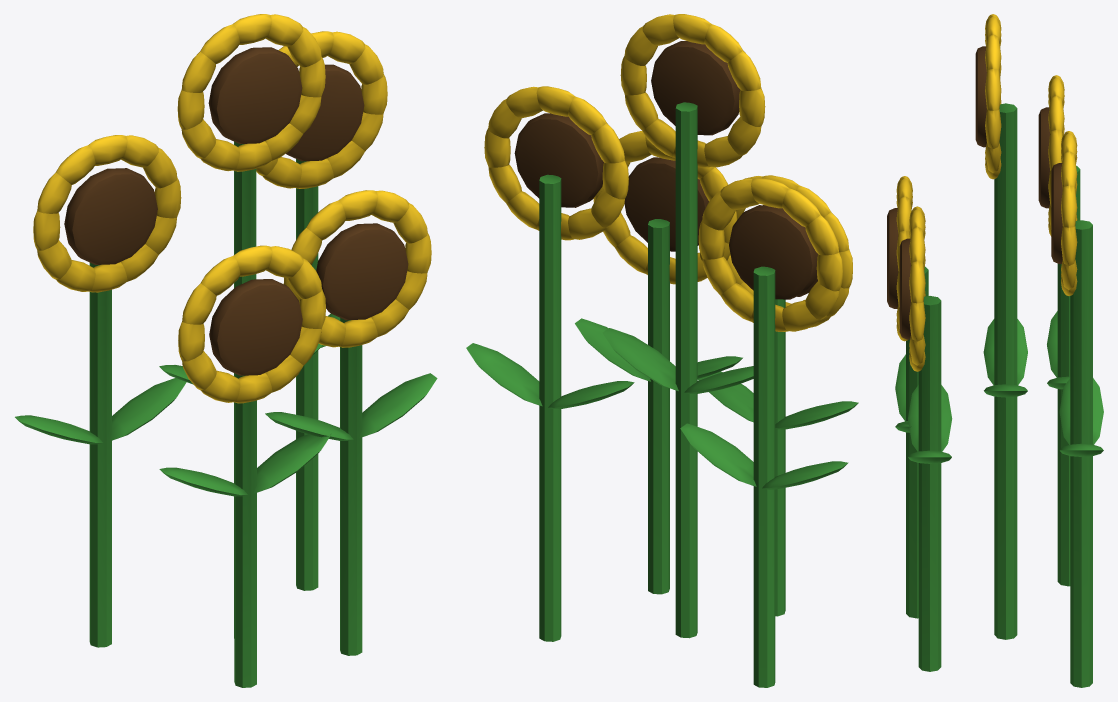
The model's file is sunflowers.glb.
The picture shows the model from 3 angles, left to right: view 1: azimuth 30°, elevation 25°; view 2: azimuth 150°, elevation 25°; view 3: azimuth 270°, elevation 25°; orthographic projection. The views are drawn at different scales.
Visible parts, largest first — view 1: sunflowers; view 2: sunflowers; view 3: sunflowers.
Part boxes in pixels (x1,y1,x2,y2): sunflowers: (15, 14, 437, 687); sunflowers: (466, 14, 858, 687); sunflowers: (887, 14, 1103, 687).
Bounding box in the file's own units: 1.69 × 2.68 × 0.858.
